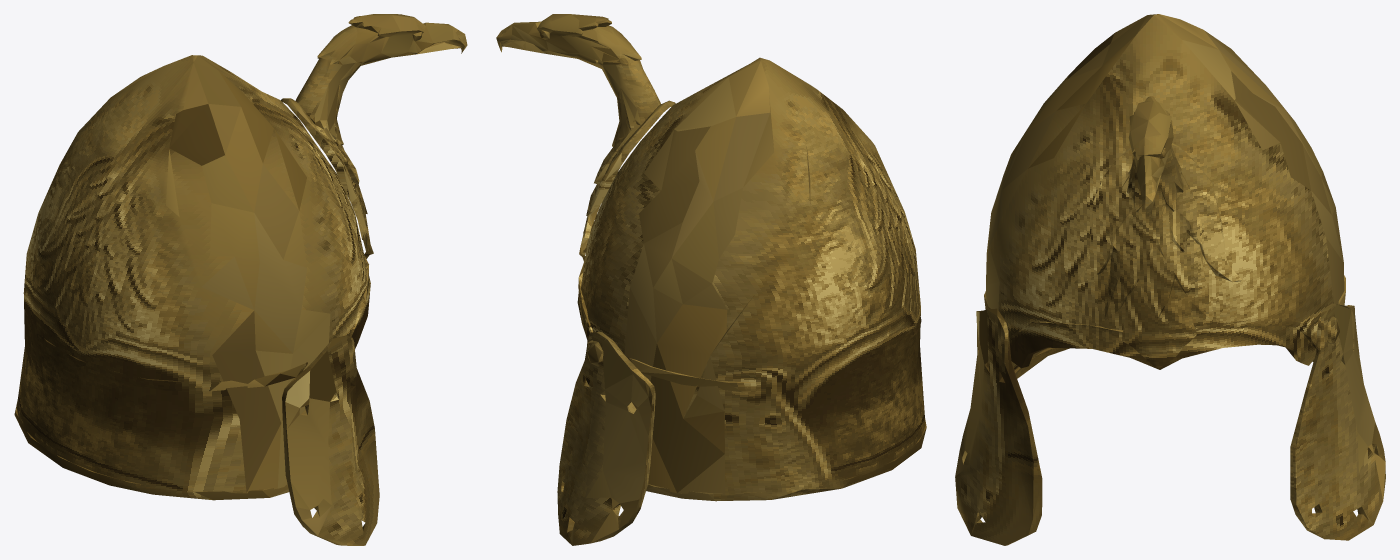
File: oro_padre.glb
3 renders of one model, left to right at view 1: azimuth 30°, elevation 25°; view 2: azimuth 150°, elevation 25°; view 3: azimuth 270°, elevation 25°, orthographic. The views are drawn at different scales.
Parts seen in each view (by area): view 1: armadura.casco.oro_padre; view 2: armadura.casco.oro_padre; view 3: armadura.casco.oro_padre.
Boxes of the visible parts, bbox=[...] form: armadura.casco.oro_padre: bbox=[14, 14, 467, 545]; armadura.casco.oro_padre: bbox=[496, 14, 926, 545]; armadura.casco.oro_padre: bbox=[955, 14, 1385, 545].
Size of the model in its own units: 0.2707 by 0.2782 by 0.2266.
1 material, 1 textured.
